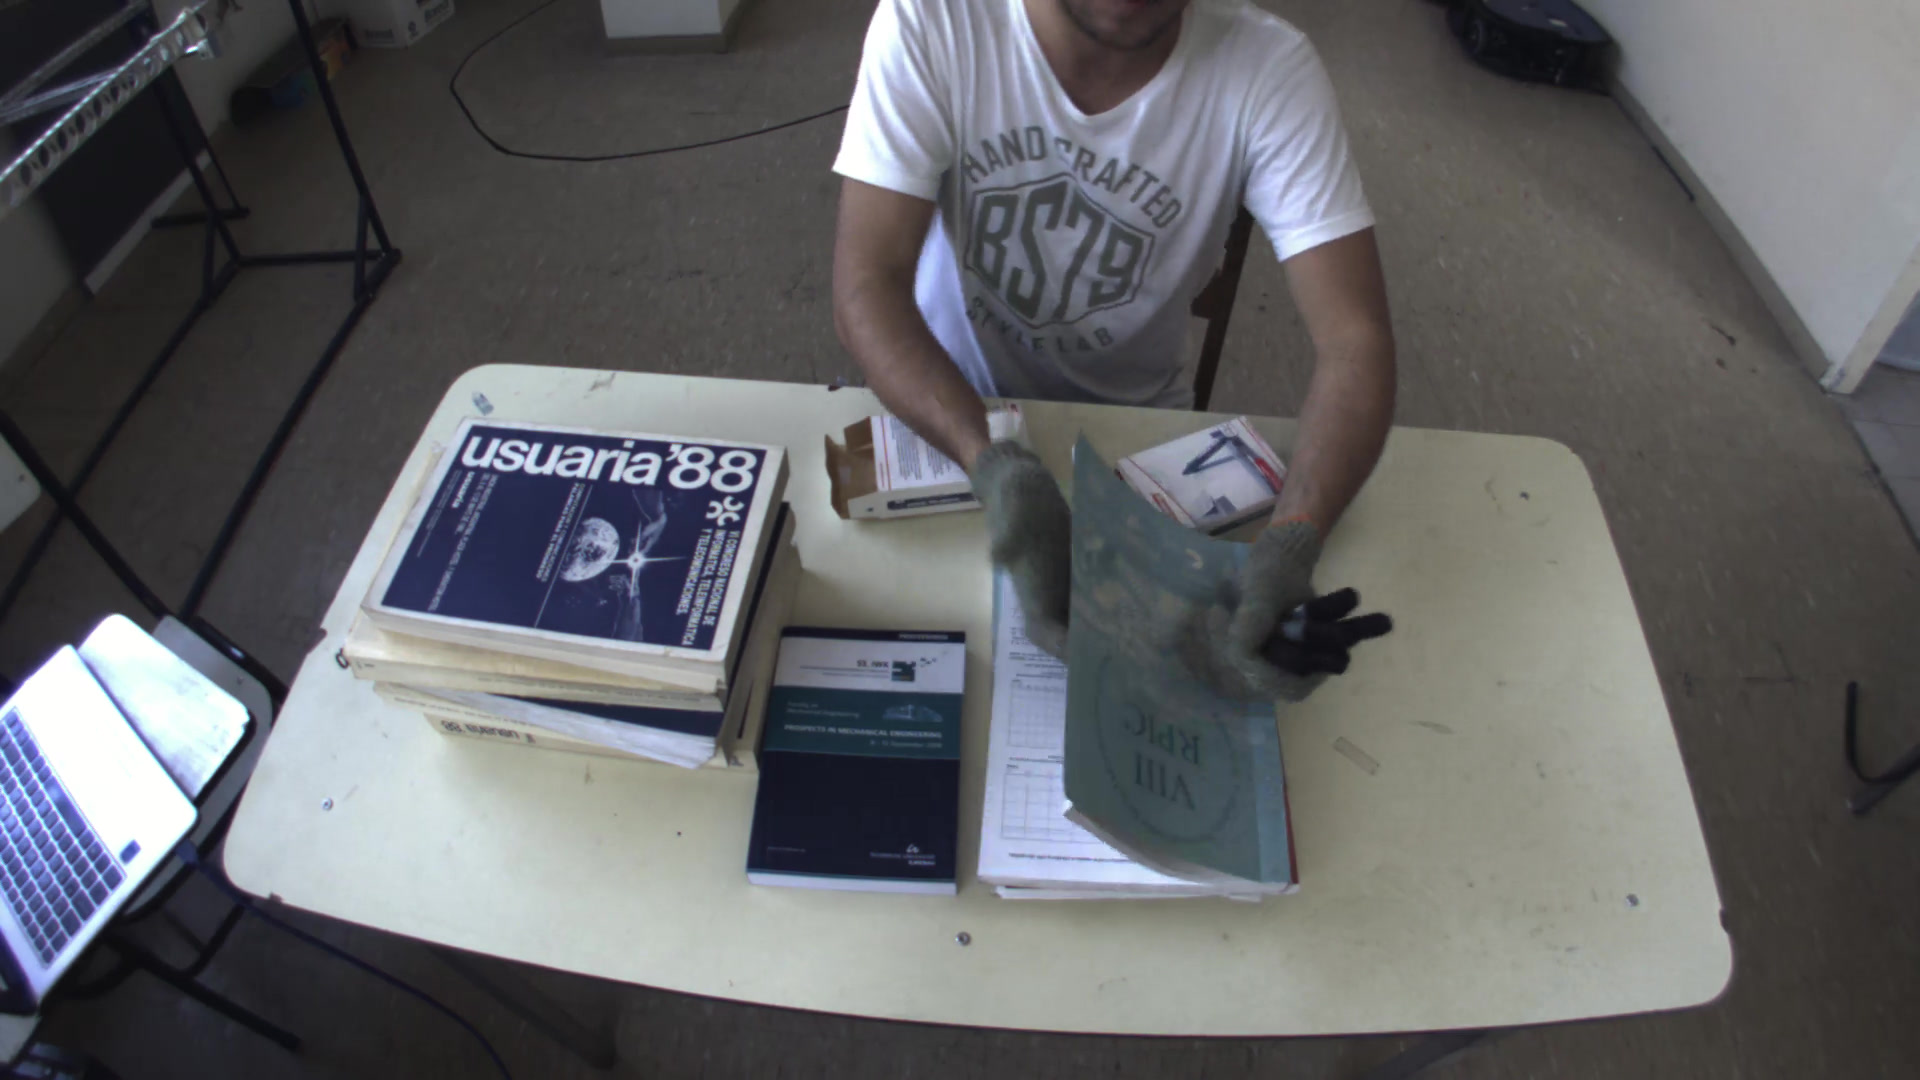hand: (1212, 513, 1393, 694), (959, 422, 1081, 654)
